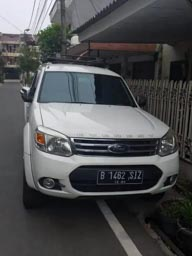plat: (99, 170, 144, 180)
